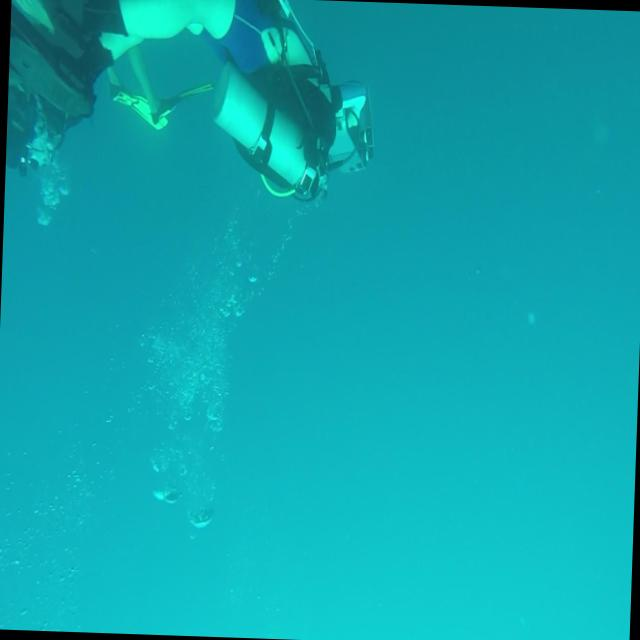human: (4, 0, 378, 207), (5, 32, 199, 184)
